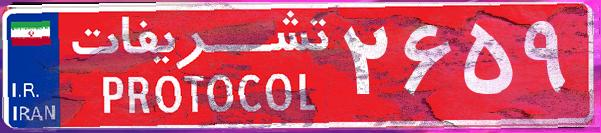2: (340, 20, 400, 115)
5: (460, 20, 520, 115)
6: (400, 20, 460, 115)
9: (520, 20, 580, 115)
تشریفات: (60, 8, 340, 125)
